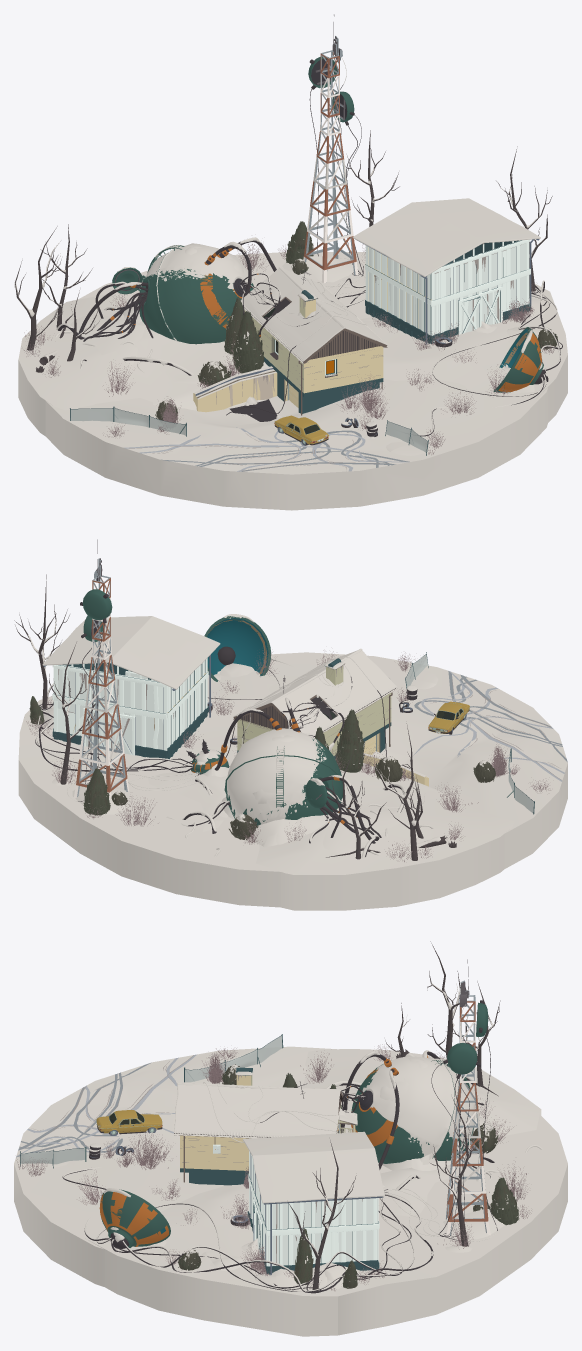
File: colourdrafts.glb
3 views of the same model, one above another, from view 1: azimuth 30°, elevation 25°; view 2: azimuth 150°, elevation 25°; view 3: azimuth 270°, elevation 25° (orthographic). The views are drawn at different scales.
Bounding box in the file's own units: 0.4046 × 0.2229 × 0.3648.
Materials: 5 (5 with a texture image).
